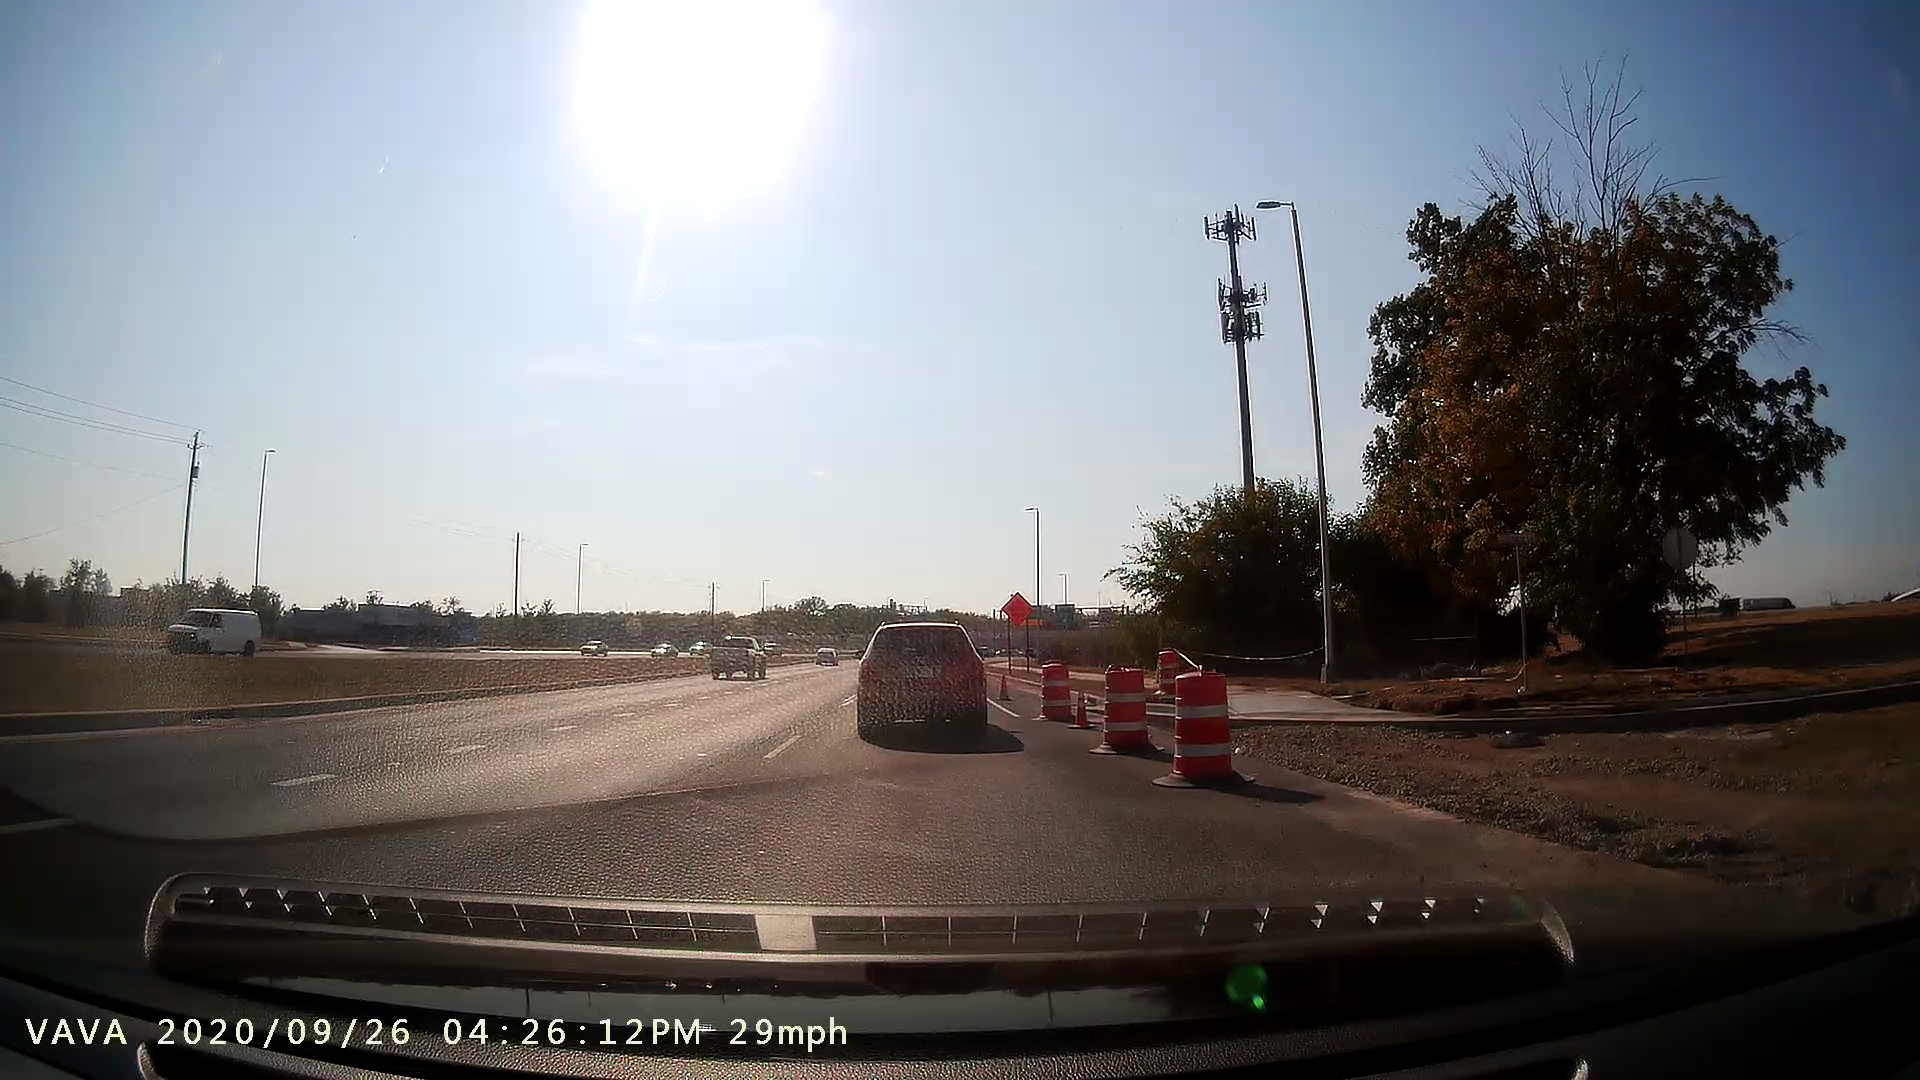const_barrel: (1154, 659, 1258, 800), (1095, 654, 1155, 765), (1033, 647, 1072, 735)
